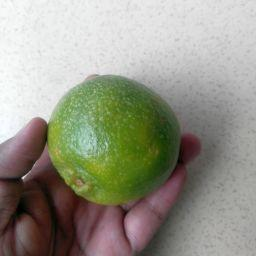Unripe: (47, 75, 180, 203)
